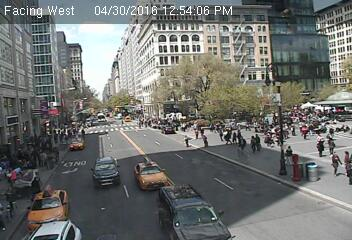neg: (80, 181, 96, 201), (118, 127, 131, 145), (119, 178, 131, 193), (99, 179, 110, 195), (138, 129, 147, 142), (4, 217, 12, 229), (102, 126, 109, 135)
pos: (325, 151, 345, 178), (282, 145, 299, 168), (314, 137, 328, 157), (179, 130, 193, 149), (326, 137, 338, 154)
